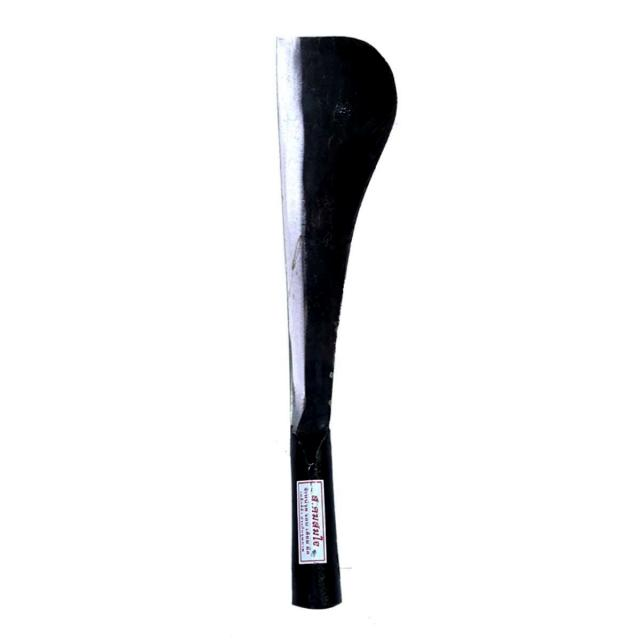eto: (265, 25, 411, 614)
